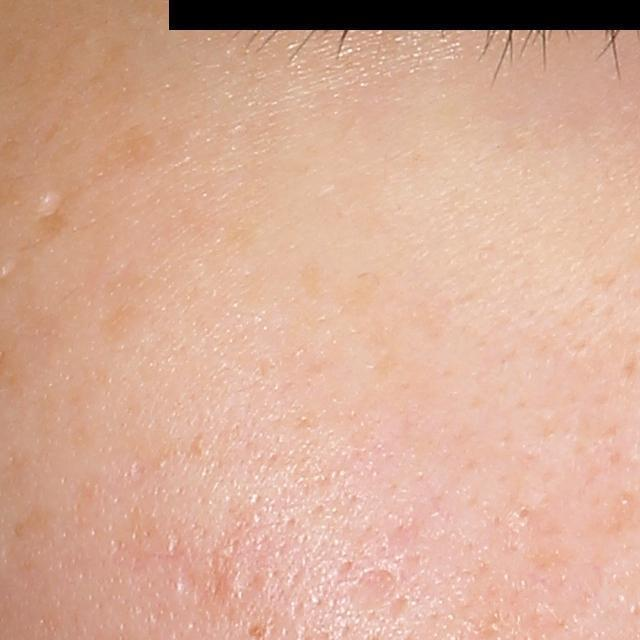atrophic_scar: (169, 538, 243, 613), (346, 563, 402, 614)
comedo: (514, 499, 539, 524)
melasma: (84, 127, 157, 188), (85, 45, 133, 111), (98, 302, 146, 349), (338, 271, 381, 321)
